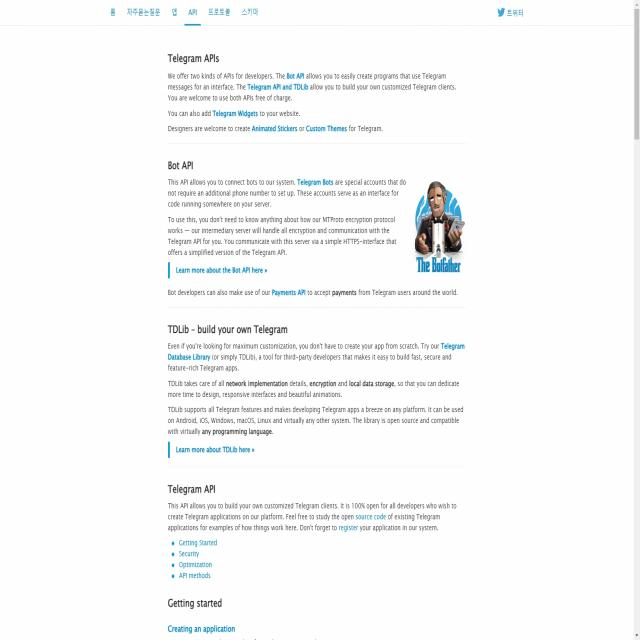menu-bar: (107, 1, 262, 27)
